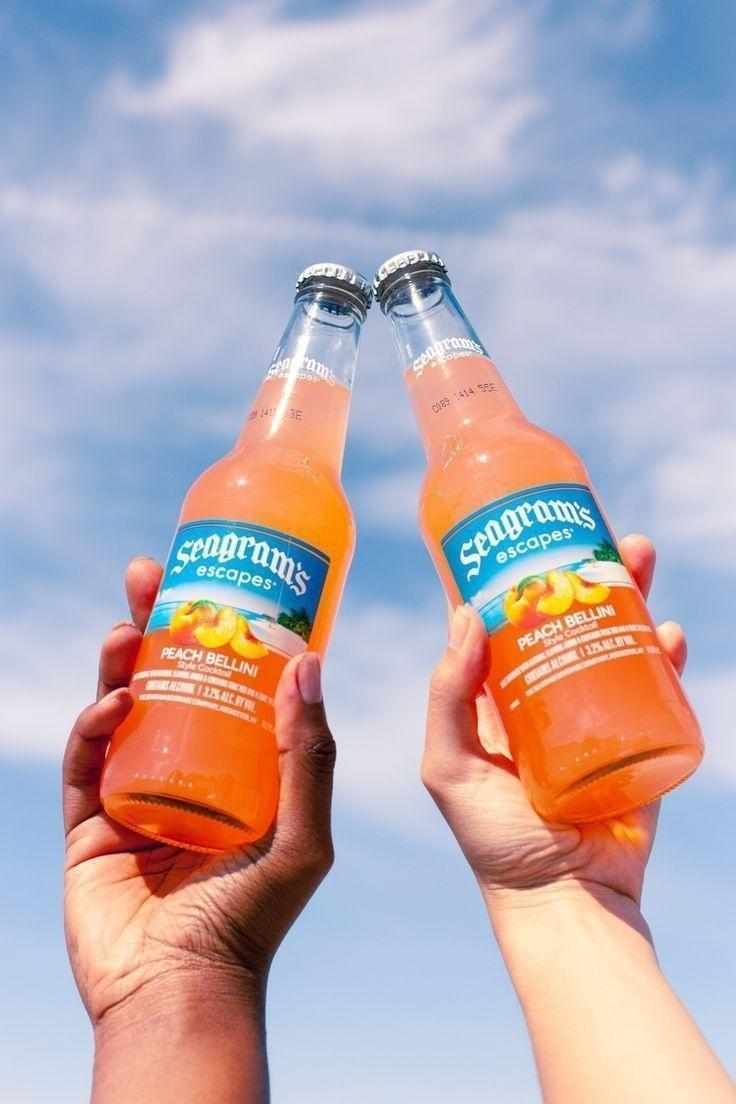bottle-glass: (373, 245, 709, 830), (97, 262, 373, 854)
